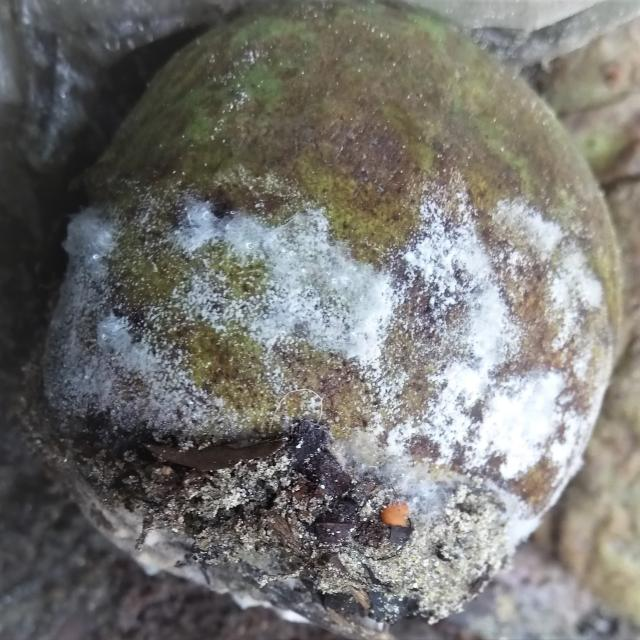Phytopthora: (31, 4, 620, 633)
